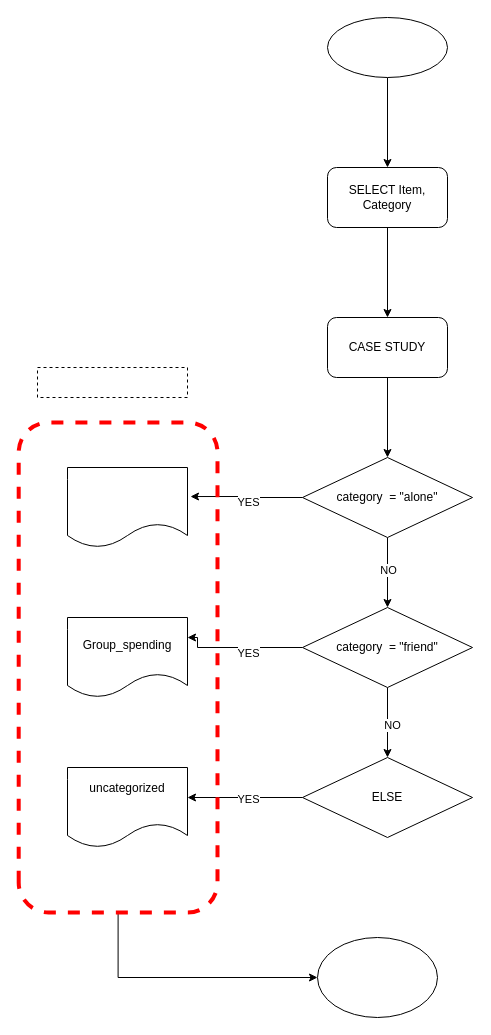
Some shapes in this 491 by 1035 pixel diagram are drawn without their labels. Each missing label, with the centre of its shape:
AS spending_category: point 112,382
Solo_spending: point 127,507
START: point 387,47
STOP: point 377,977
